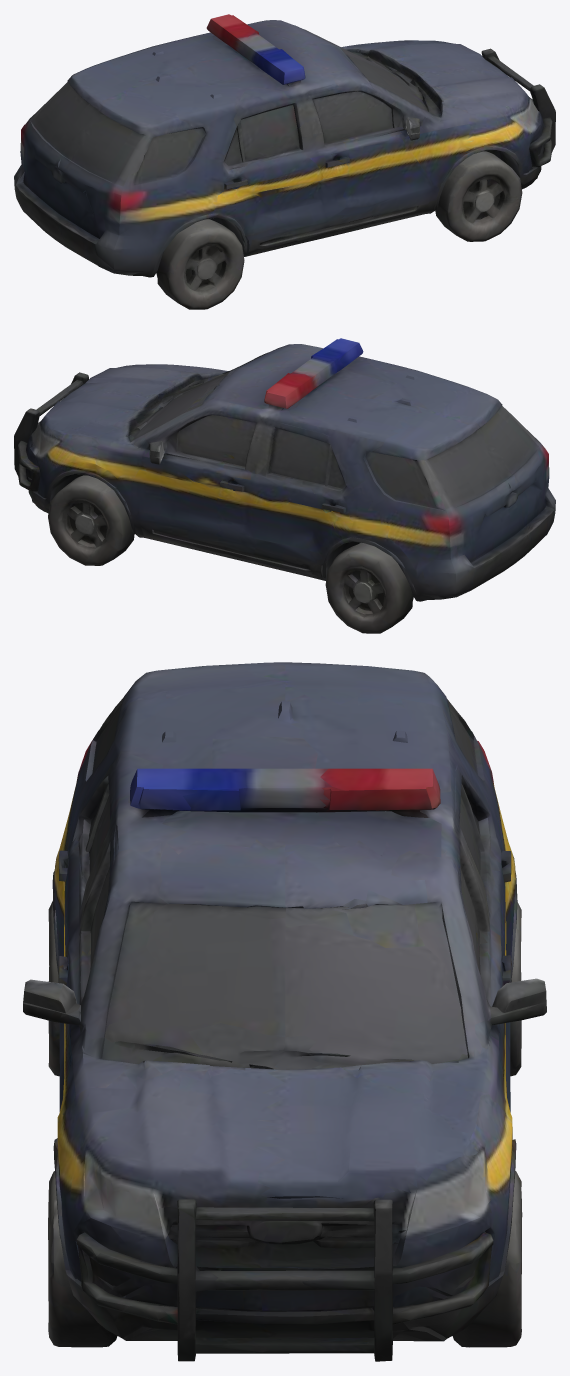
File: viatura_prf.glb
3 views of the same model, one above another, from view 1: azimuth 30°, elevation 25°; view 2: azimuth 150°, elevation 25°; view 3: azimuth 270°, elevation 25° (orthographic). The views are drawn at different scales.
Visible parts, largest first — view 1: tripo_node_b6a34e1c-ad00-43a0-adbc-01038b511313; view 2: tripo_node_b6a34e1c-ad00-43a0-adbc-01038b511313; view 3: tripo_node_b6a34e1c-ad00-43a0-adbc-01038b511313.
Boxes of the visible parts, <box> form: tripo_node_b6a34e1c-ad00-43a0-adbc-01038b511313: <box>14,14,555,309</box>; tripo_node_b6a34e1c-ad00-43a0-adbc-01038b511313: <box>14,338,555,633</box>; tripo_node_b6a34e1c-ad00-43a0-adbc-01038b511313: <box>23,662,546,1361</box>.
Bounding box in the file's own units: 0.9999 × 0.3941 × 0.4731.
Materials: 1 (1 with a texture image).
